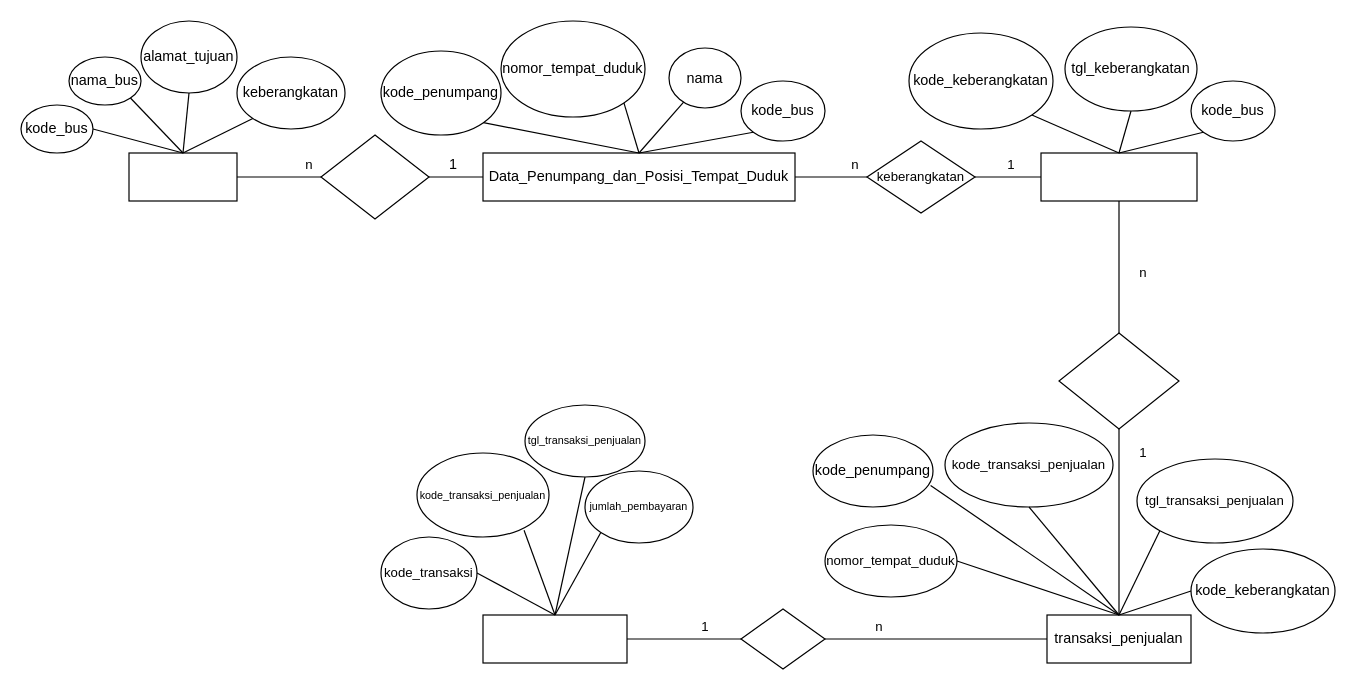
Some shapes in this 1356 by 690 pixel diagram are drawn without their labels. Each missing label, with the centre of its shape:
data_armada: [182,176]
dibayar: [782,638]
jadwal_keberangkatan: [1118,176]
laporan_transaksi: [554,638]
membeli: [1118,380]
memesan: [374,176]
